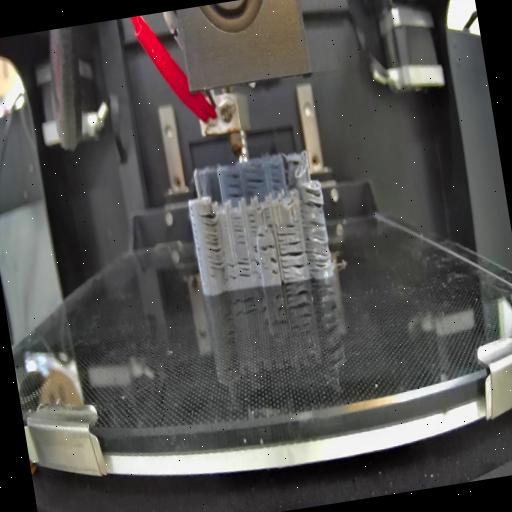cracks: (198, 208, 227, 276), (300, 216, 330, 270), (278, 239, 304, 277), (227, 256, 260, 282), (300, 182, 325, 212), (242, 168, 266, 196), (221, 170, 243, 200), (229, 213, 247, 247), (274, 218, 296, 239), (268, 163, 282, 192), (251, 239, 275, 255), (262, 204, 274, 228), (267, 255, 279, 277), (246, 212, 258, 232), (288, 156, 302, 172), (255, 232, 268, 240)
